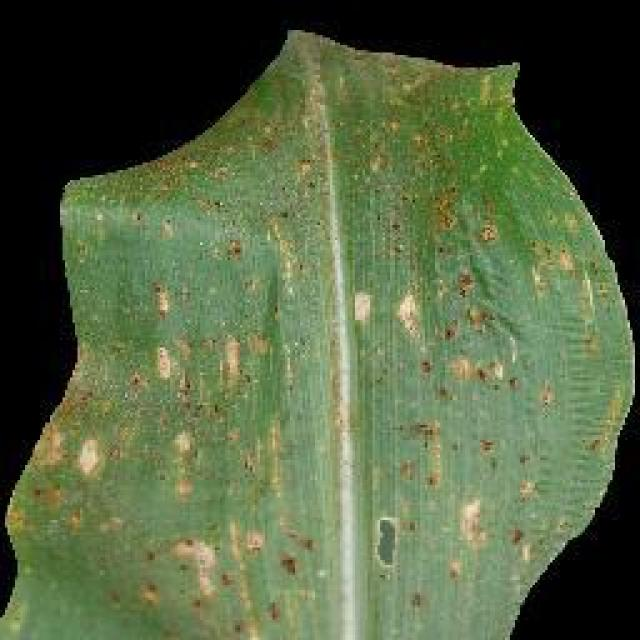Corn Common Rust: (135, 87, 572, 630)
